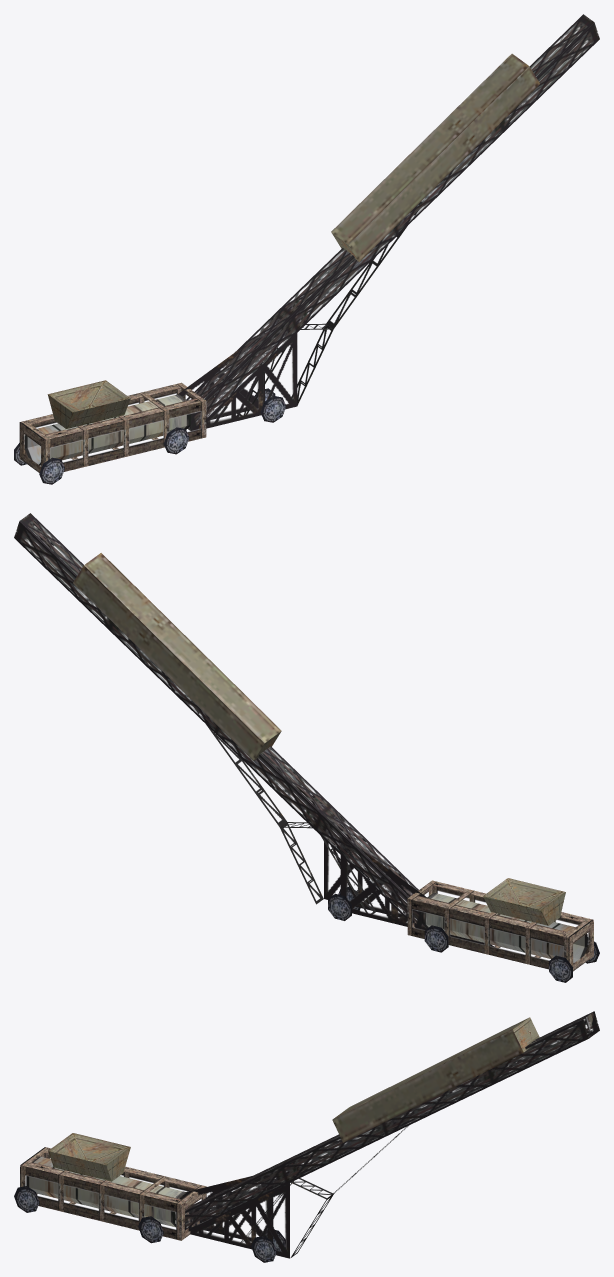
Rendered from Civilian - Civilian Building - Grvl Mvr - CBGrvlMvr.glb.
3 renders of one model, top to bottom at view 1: azimuth 30°, elevation 25°; view 2: azimuth 150°, elevation 25°; view 3: azimuth 330°, elevation 25°, orthographic.
Visible parts, largest first — view 1: CBGRVLMVR; view 2: CBGRVLMVR; view 3: CBGRVLMVR.
Boxes of the visible parts, x1,y1,x2,y2 form: CBGRVLMVR: [14, 14, 599, 484]; CBGRVLMVR: [14, 513, 599, 982]; CBGRVLMVR: [14, 1011, 599, 1262].
Size of the model in its own units: 103 by 56.09 by 8.26.
1 material, 1 textured.
